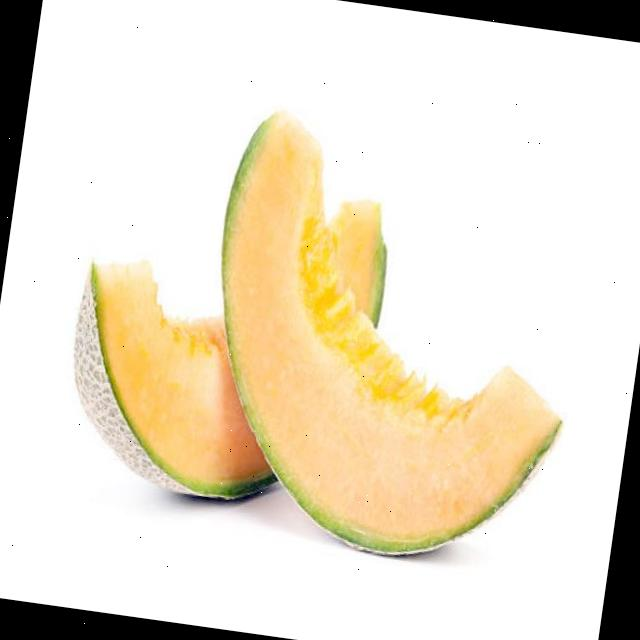Hami Melon: (181, 105, 599, 572), (58, 162, 392, 516)
